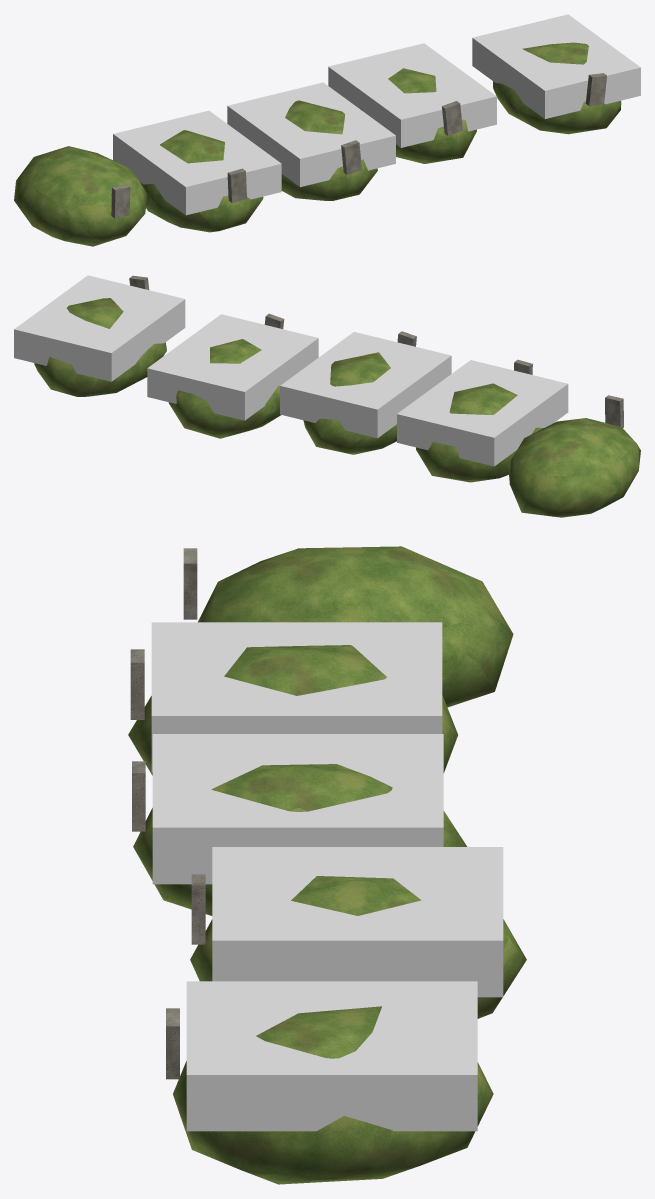
File: burial_mounds.glb
The picture shows the model from 3 angles, top to bottom: view 1: azimuth 30°, elevation 25°; view 2: azimuth 150°, elevation 25°; view 3: azimuth 270°, elevation 25°; orthographic projection. The views are drawn at different scales.
Visible parts, largest first — view 1: Mounds, Mound-convcolonly.004, Mound-convcolonly.003, Mound-convcolonly.001, Mound-convcolonly.002, Markers; view 2: Mounds, Mound-convcolonly.004, Mound-convcolonly.003, Mound-convcolonly.001, Mound-convcolonly.002, Markers; view 3: Mounds, Mound-convcolonly.004, Mound-convcolonly.003, Mound-convcolonly.002, Mound-convcolonly.001, Markers.
Boxes of the visible parts, left/top/right/bottom form: Mounds: left=14, top=42, right=621, bottom=246; Mound-convcolonly.004: left=472, top=14, right=640, bottom=118; Mound-convcolonly.003: left=328, top=43, right=496, bottom=147; Mound-convcolonly.001: left=113, top=110, right=281, bottom=215; Mound-convcolonly.002: left=227, top=82, right=395, bottom=187; Markers: left=111, top=73, right=606, bottom=218; Mounds: left=34, top=298, right=640, bottom=517; Mound-convcolonly.004: left=14, top=275, right=185, bottom=381; Mound-convcolonly.003: left=147, top=314, right=318, bottom=420; Mound-convcolonly.001: left=397, top=360, right=568, bottom=466; Mound-convcolonly.002: left=280, top=332, right=451, bottom=438; Markers: left=129, top=275, right=623, bottom=427; Mounds: left=128, top=546, right=526, bottom=1184; Mound-convcolonly.004: left=186, top=981, right=477, bottom=1131; Mound-convcolonly.003: left=212, top=847, right=503, bottom=997; Mound-convcolonly.002: left=152, top=734, right=443, bottom=884; Mound-convcolonly.001: left=151, top=622, right=442, bottom=772; Markers: left=130, top=548, right=205, bottom=1079.
Size of what is drawn, in the model's own units: 19.22 by 2.58 by 5.76.
Materials: 2 (2 with a texture image).
